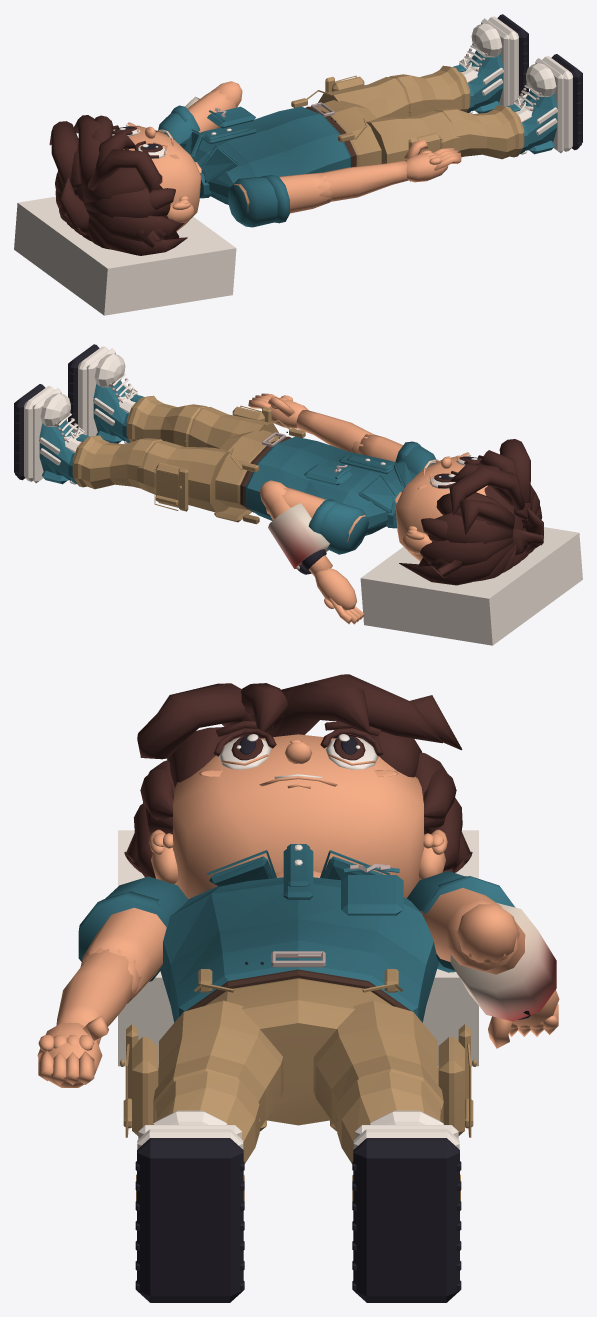
Rendered from npc.shelter-survivor.lying.glb.
The picture shows the model from 3 angles, top to bottom: view 1: azimuth 30°, elevation 25°; view 2: azimuth 150°, elevation 25°; view 3: azimuth 270°, elevation 25°; orthographic projection. The views are drawn at different scales.
Visible parts, largest first — view 1: head, restCushion, torso, footR, footL, armR, shinR, legR, hip, shinL, legL, foreArmR (+3 smaller); view 2: head, restCushion, torso, footL, footR, legL, hip, foreArmL, shinL, armL, shinR, legR (+4 smaller); view 3: head, torso, footL, footR, hip, legL, legR, foreArmL, restCushion, armR, armL, foreArmR (+4 smaller).
Boxes of the visible parts, bbox=[...] form: head: bbox=[49, 115, 201, 255]; restCushion: bbox=[14, 196, 236, 315]; torso: bbox=[179, 106, 350, 204]; footR: bbox=[507, 54, 582, 154]; footL: bbox=[453, 14, 528, 113]; armR: bbox=[228, 172, 331, 227]; shinR: bbox=[434, 105, 524, 159]; legR: bbox=[366, 111, 459, 181]; hip: bbox=[291, 90, 381, 167]; shinL: bbox=[389, 65, 470, 116]; legL: bbox=[318, 75, 408, 118]; foreArmR: bbox=[318, 160, 408, 201]; head: bbox=[395, 439, 543, 585]; restCushion: bbox=[360, 527, 582, 645]; torso: bbox=[246, 436, 417, 535]; footL: bbox=[14, 384, 89, 484]; footR: bbox=[68, 344, 143, 443]; legL: bbox=[137, 441, 230, 512]; hip: bbox=[214, 420, 305, 524]; foreArmL: bbox=[260, 480, 332, 576]; shinL: bbox=[72, 435, 162, 489]; armL: bbox=[266, 487, 368, 554]; shinR: bbox=[126, 395, 207, 446]; legR: bbox=[188, 405, 278, 448]; head: bbox=[124, 674, 472, 898]; torso: bbox=[160, 844, 438, 1022]; footL: bbox=[352, 1110, 461, 1302]; footR: bbox=[135, 1110, 244, 1302]; hip: bbox=[185, 951, 411, 1131]; legL: bbox=[313, 1000, 477, 1137]; legR: bbox=[119, 1000, 283, 1137]; foreArmL: bbox=[450, 903, 556, 1021]; restCushion: bbox=[118, 830, 478, 1066]; armR: bbox=[78, 876, 188, 1003]; armL: bbox=[407, 871, 517, 972]; foreArmR: bbox=[56, 948, 141, 1045].
Size of the model in its own units: 1.81 by 0.5448 by 0.8363.
